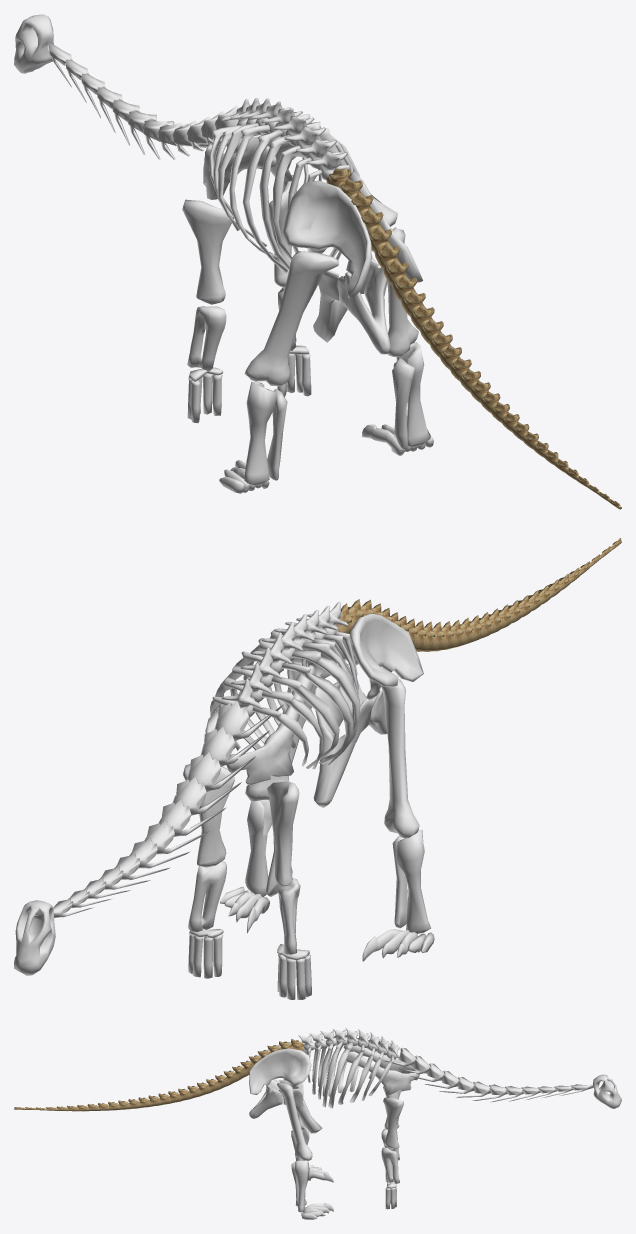
Rendered from uberabatitan.fbx.
3 views of the same model, one above another, from view 1: azimuth 30°, elevation 25°; view 2: azimuth 150°, elevation 25°; view 3: azimuth 270°, elevation 25° (orthographic). The views are drawn at different scales.
Parts seen in each view (by area): view 1: pelvis, dorsal, tail, neck, femur_l, tibia_fibula_l, humerus_l, tibia_fibula_r, skull, ulna_radius_l, manus_l, femur_r (+5 smaller); view 2: dorsal, neck, pelvis, tail, femur_l, tibia_fibula_l, scapula_l, skull, humerus_l, tibia_fibula_r, humerus_r, ulna_radius_r (+6 smaller); view 3: dorsal, pelvis, tail, neck, scapula_r, femur_r, humerus_r, skull, tibia_fibula_r, scapula_l, ulna_radius_r, pes_r (+1 smaller).
Part boxes in pixels (<box>): pelvis: <box>281,171,422,354</box>; dorsal: <box>209,97,359,272</box>; tail: <box>326,168,621,509</box>; neck: <box>47,42,264,159</box>; femur_l: <box>244,251,338,386</box>; tibia_fibula_l: <box>244,381,287,485</box>; humerus_l: <box>182,199,234,304</box>; tibia_fibula_r: <box>392,342,430,449</box>; skull: <box>14,14,53,73</box>; ulna_radius_l: <box>187,306,226,371</box>; manus_l: <box>187,367,223,423</box>; femur_r: <box>387,227,418,357</box>; dorsal: <box>210,601,359,769</box>; neck: <box>53,691,283,917</box>; pelvis: <box>293,613,423,807</box>; tail: <box>336,538,621,651</box>; femur_l: <box>381,679,419,838</box>; tibia_fibula_l: <box>392,829,430,933</box>; scapula_l: <box>226,664,315,785</box>; skull: <box>14,900,55,975</box>; humerus_l: <box>267,781,299,886</box>; tibia_fibula_r: <box>245,800,279,896</box>; humerus_r: <box>183,763,234,867</box>; ulna_radius_r: <box>188,861,226,931</box>; dorsal: <box>298,1028,400,1108</box>; pelvis: <box>249,1041,322,1133</box>; tail: <box>14,1038,303,1111</box>; neck: <box>382,1047,593,1102</box>; scapula_r: <box>346,1051,419,1094</box>; femur_r: <box>277,1082,312,1160</box>; humerus_r: <box>383,1097,403,1148</box>; skull: <box>593,1074,621,1108</box>; tibia_fibula_r: <box>291,1160,309,1212</box>; scapula_l: <box>343,1043,419,1073</box>; ulna_radius_r: <box>381,1147,399,1183</box>; pes_r: <box>301,1202,333,1219</box>.
Size of the model in its own units: 2488 by 3910 by 12737.
